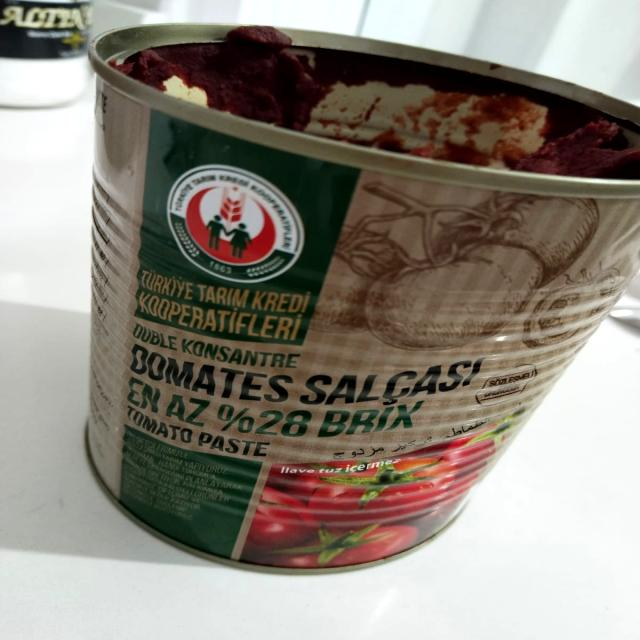tomato paste: (58, 15, 640, 590)
